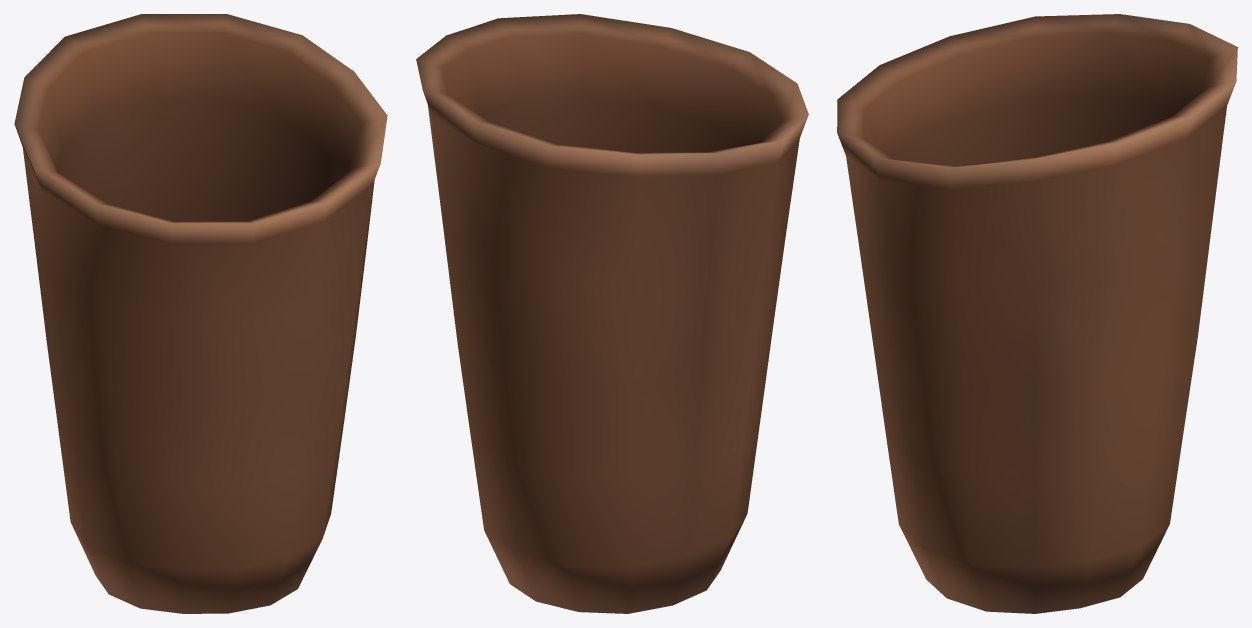
Rendered from pot_kulhad_v2_b.glb.
The picture shows the model from 3 angles, left to right: view 1: azimuth 30°, elevation 25°; view 2: azimuth 150°, elevation 25°; view 3: azimuth 270°, elevation 25°; orthographic projection. The views are drawn at different scales.
Parts seen in each view (by area): view 1: hb_main; view 2: hb_main; view 3: hb_main.
Part boxes in pixels (x1,y1,x2,y2): hb_main: [14, 14, 387, 613]; hb_main: [416, 14, 808, 613]; hb_main: [837, 14, 1237, 613].
Bounding box in the file's own units: 0.0857 × 0.1229 × 0.088.
